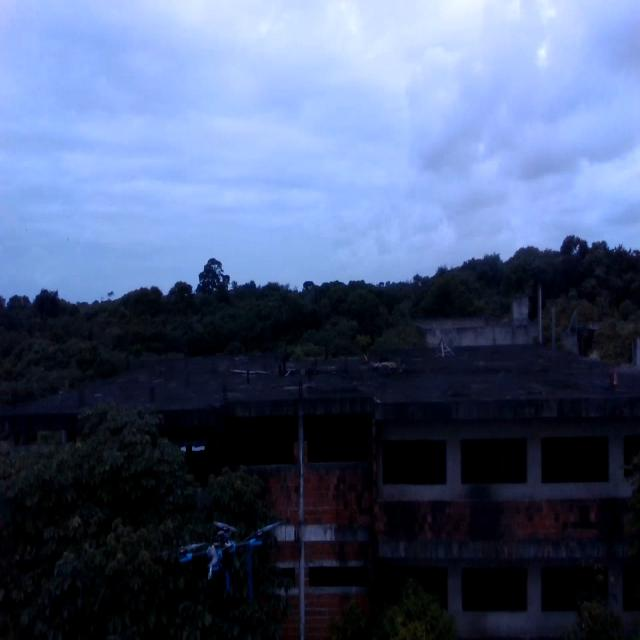-uav-: (164, 511, 288, 616)
